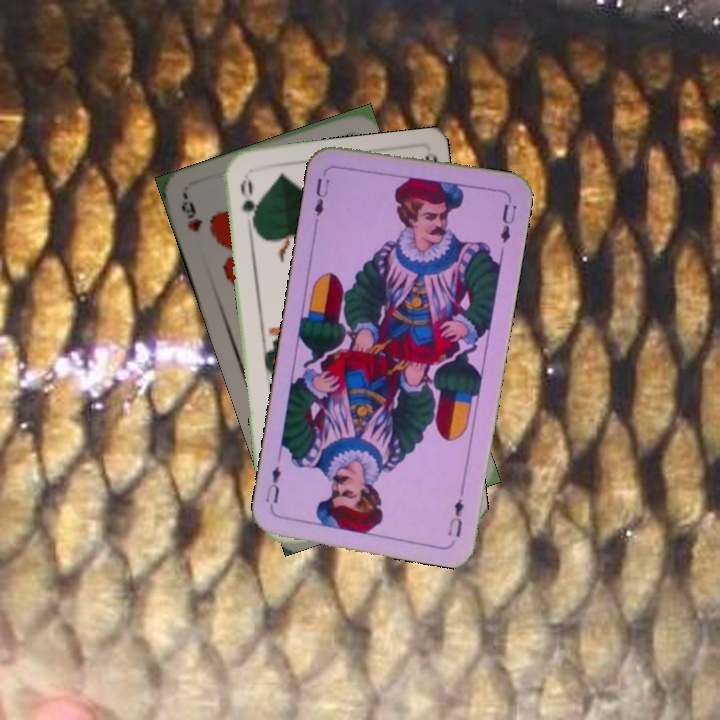EU: (310, 167, 332, 226), (443, 495, 467, 540)
GO: (236, 175, 260, 231)
H9: (177, 193, 206, 234)
